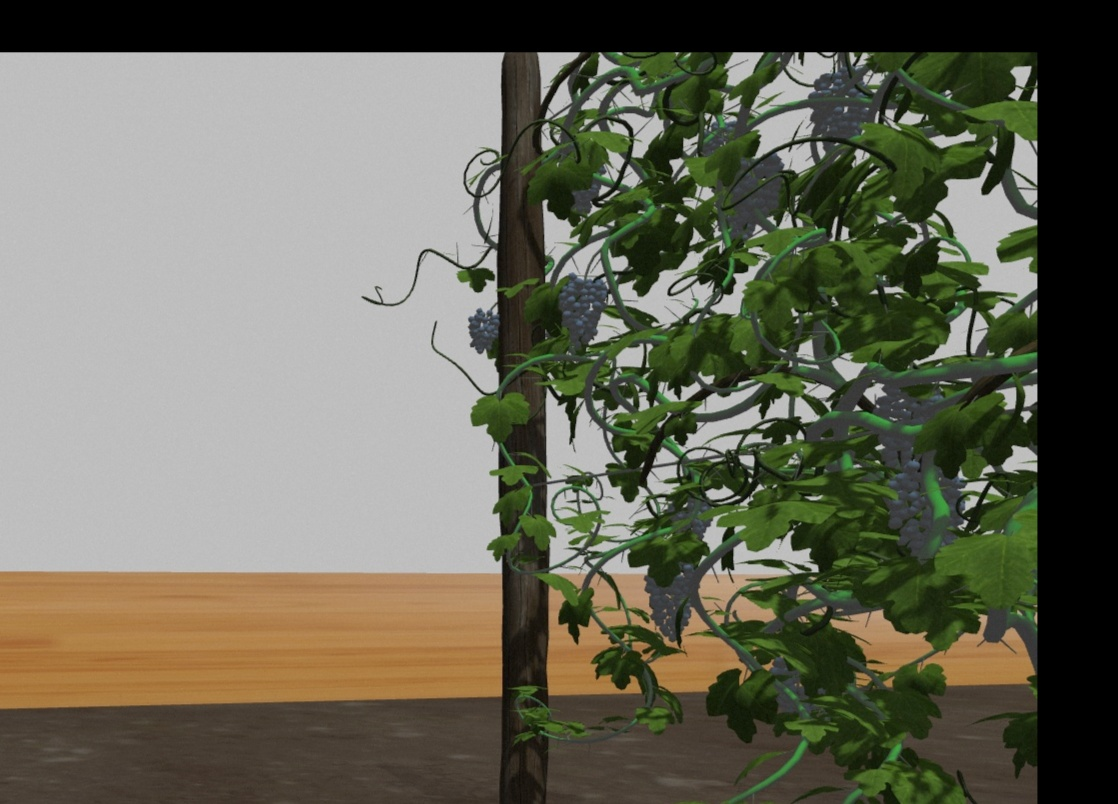grape: (889, 460, 965, 565), (807, 69, 873, 149), (728, 153, 788, 234), (645, 554, 698, 641), (557, 272, 607, 353), (468, 309, 498, 354)
